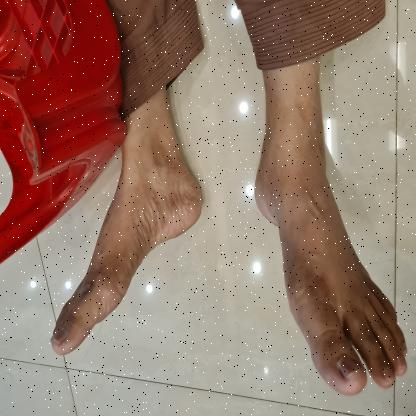leg: (247, 68, 412, 397), (46, 81, 207, 363)
